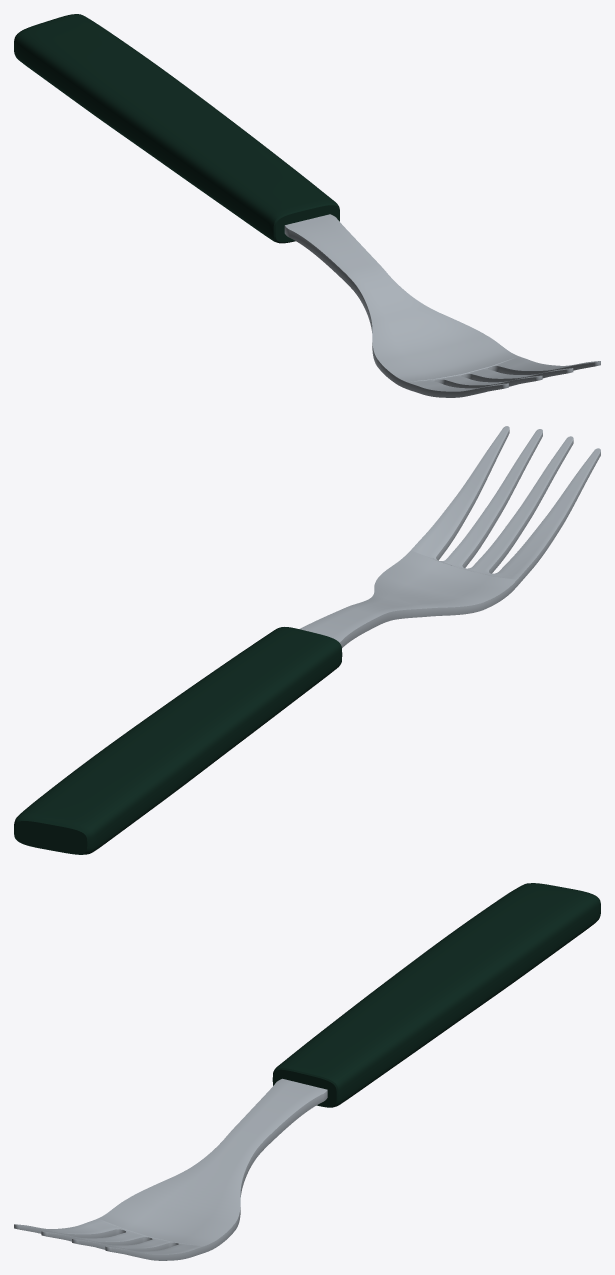
The picture shows the model from 3 angles, top to bottom: view 1: azimuth 30°, elevation 25°; view 2: azimuth 150°, elevation 25°; view 3: azimuth 330°, elevation 25°; orthographic projection.
Visible parts, largest first — view 1: part_000_Molded_sage_grip, part_001_Head_and_integral_tang; view 2: part_000_Molded_sage_grip, part_001_Head_and_integral_tang; view 3: part_000_Molded_sage_grip, part_001_Head_and_integral_tang.
Boxes of the visible parts, x1,y1,x2,y2 form: part_000_Molded_sage_grip: (14, 14, 339, 243); part_001_Head_and_integral_tang: (284, 214, 600, 397); part_000_Molded_sage_grip: (14, 627, 342, 854); part_001_Head_and_integral_tang: (299, 426, 600, 647); part_000_Molded_sage_grip: (272, 883, 600, 1107); part_001_Head_and_integral_tang: (14, 1078, 327, 1260).
Bounding box in the file's own units: 0.0263 × 0.018 × 0.21.
